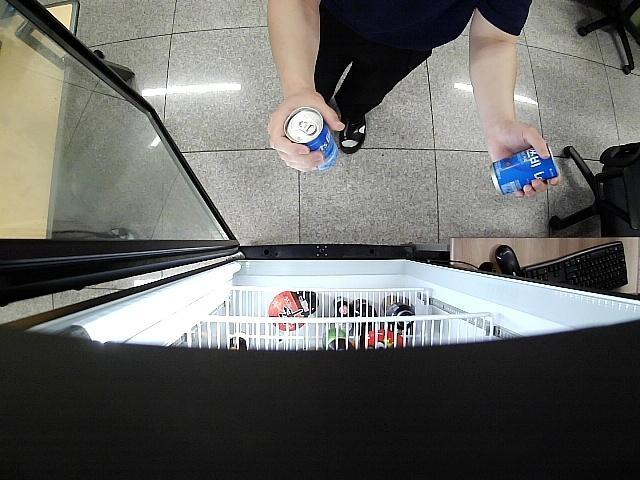15_letsbe: (490, 142, 562, 198), (285, 106, 340, 173)
